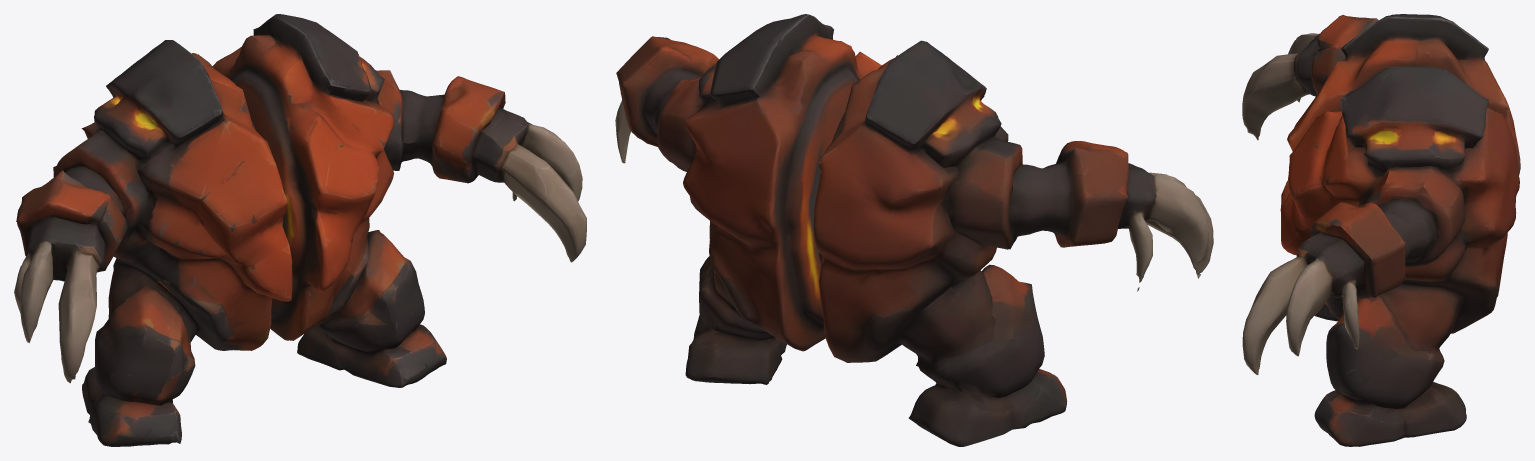
File: splitter.glb
The picture shows the model from 3 angles, left to right: view 1: azimuth 30°, elevation 25°; view 2: azimuth 150°, elevation 25°; view 3: azimuth 270°, elevation 25°; orthographic projection. The views are drawn at different scales.
Visible parts, largest first — view 1: tripo_node_6b6d4aa9; view 2: tripo_node_6b6d4aa9; view 3: tripo_node_6b6d4aa9.
Boxes of the visible parts, x1=… form: tripo_node_6b6d4aa9: x1=14, y1=14, x2=586, y2=446; tripo_node_6b6d4aa9: x1=615, y1=14, x2=1213, y2=446; tripo_node_6b6d4aa9: x1=1242, y1=14, x2=1520, y2=446.
Bounding box in the file's own units: 99.83 × 58.47 × 45.17.
1 material, 1 textured.
